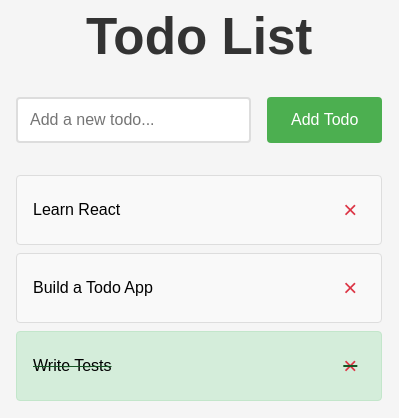
Test: TodoList Component › deletes a todo
The width and height of the screenshot is (399, 418).
Step 1. Click the button "×" in the row of "Learn React" → click(350, 210), box x1=335 y1=192 x2=365 y2=228
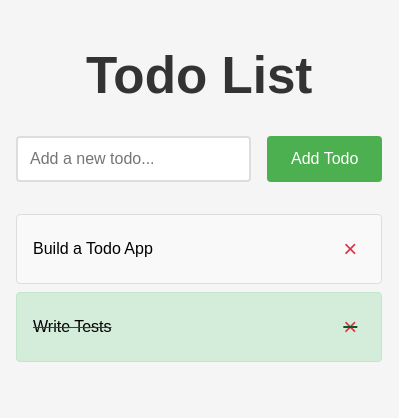
Expected: the text "Learn React" is gone
Expected: the number of list items is 2, x1=16 y1=214 x2=382 y2=284; x1=16 y1=292 x2=382 y2=362
